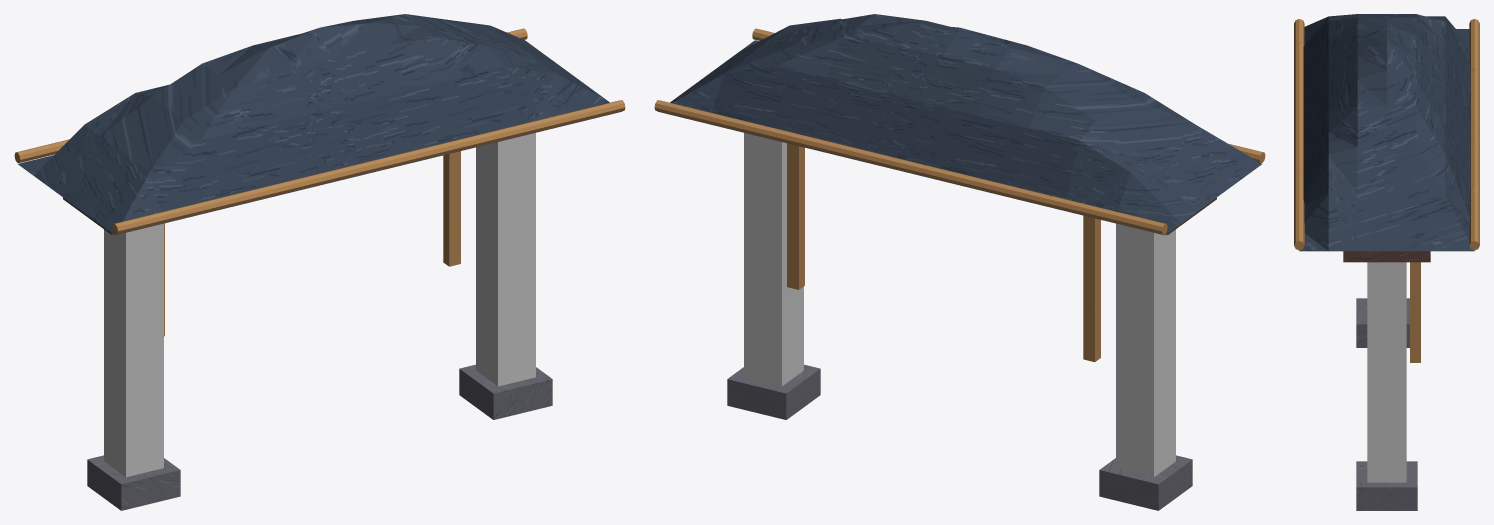
The model's file is shogun_citadel_gate.obj.
3 renders of one model, left to right at view 1: azimuth 30°, elevation 25°; view 2: azimuth 150°, elevation 25°; view 3: azimuth 270°, elevation 25°, orthographic. The views are drawn at different scales.
Parts seen in each view (by area): view 1: geometry_5, geometry_0, geometry_2, geometry_7, geometry_3, geometry_1, geometry_9, geometry_6; view 2: geometry_5, geometry_0, geometry_2, geometry_6, geometry_3, geometry_1, geometry_8, geometry_9; view 3: geometry_5, geometry_2, geometry_6, geometry_7, geometry_3, geometry_9, geometry_4, geometry_1.
Boxes of the visible parts, <box> form: geometry_5: <box>18,14,621,235</box>; geometry_0: <box>104,223,163,477</box>; geometry_2: <box>476,133,535,386</box>; geometry_7: <box>112,100,625,234</box>; geometry_3: <box>459,364,552,419</box>; geometry_1: <box>87,455,180,510</box>; geometry_9: <box>443,151,460,266</box>; geometry_6: <box>14,28,527,162</box>; geometry_5: <box>658,14,1261,235</box>; geometry_0: <box>1116,223,1175,477</box>; geometry_2: <box>744,133,803,386</box>; geometry_6: <box>654,100,1167,234</box>; geometry_3: <box>727,364,820,419</box>; geometry_1: <box>1099,455,1192,510</box>; geometry_8: <box>1083,215,1100,361</box>; geometry_9: <box>787,143,804,289</box>; geometry_5: <box>1299,14,1474,251</box>; geometry_2: <box>1367,262,1406,482</box>; geometry_6: <box>1469,19,1479,250</box>; geometry_7: <box>1294,19,1304,250</box>; geometry_3: <box>1356,461,1417,510</box>; geometry_9: <box>1410,262,1420,362</box>; geometry_4: <box>1343,251,1430,262</box>; geometry_1: <box>1356,298,1409,347</box>.
Bounding box in the file's own units: 12 × 9.45 × 4.24.
